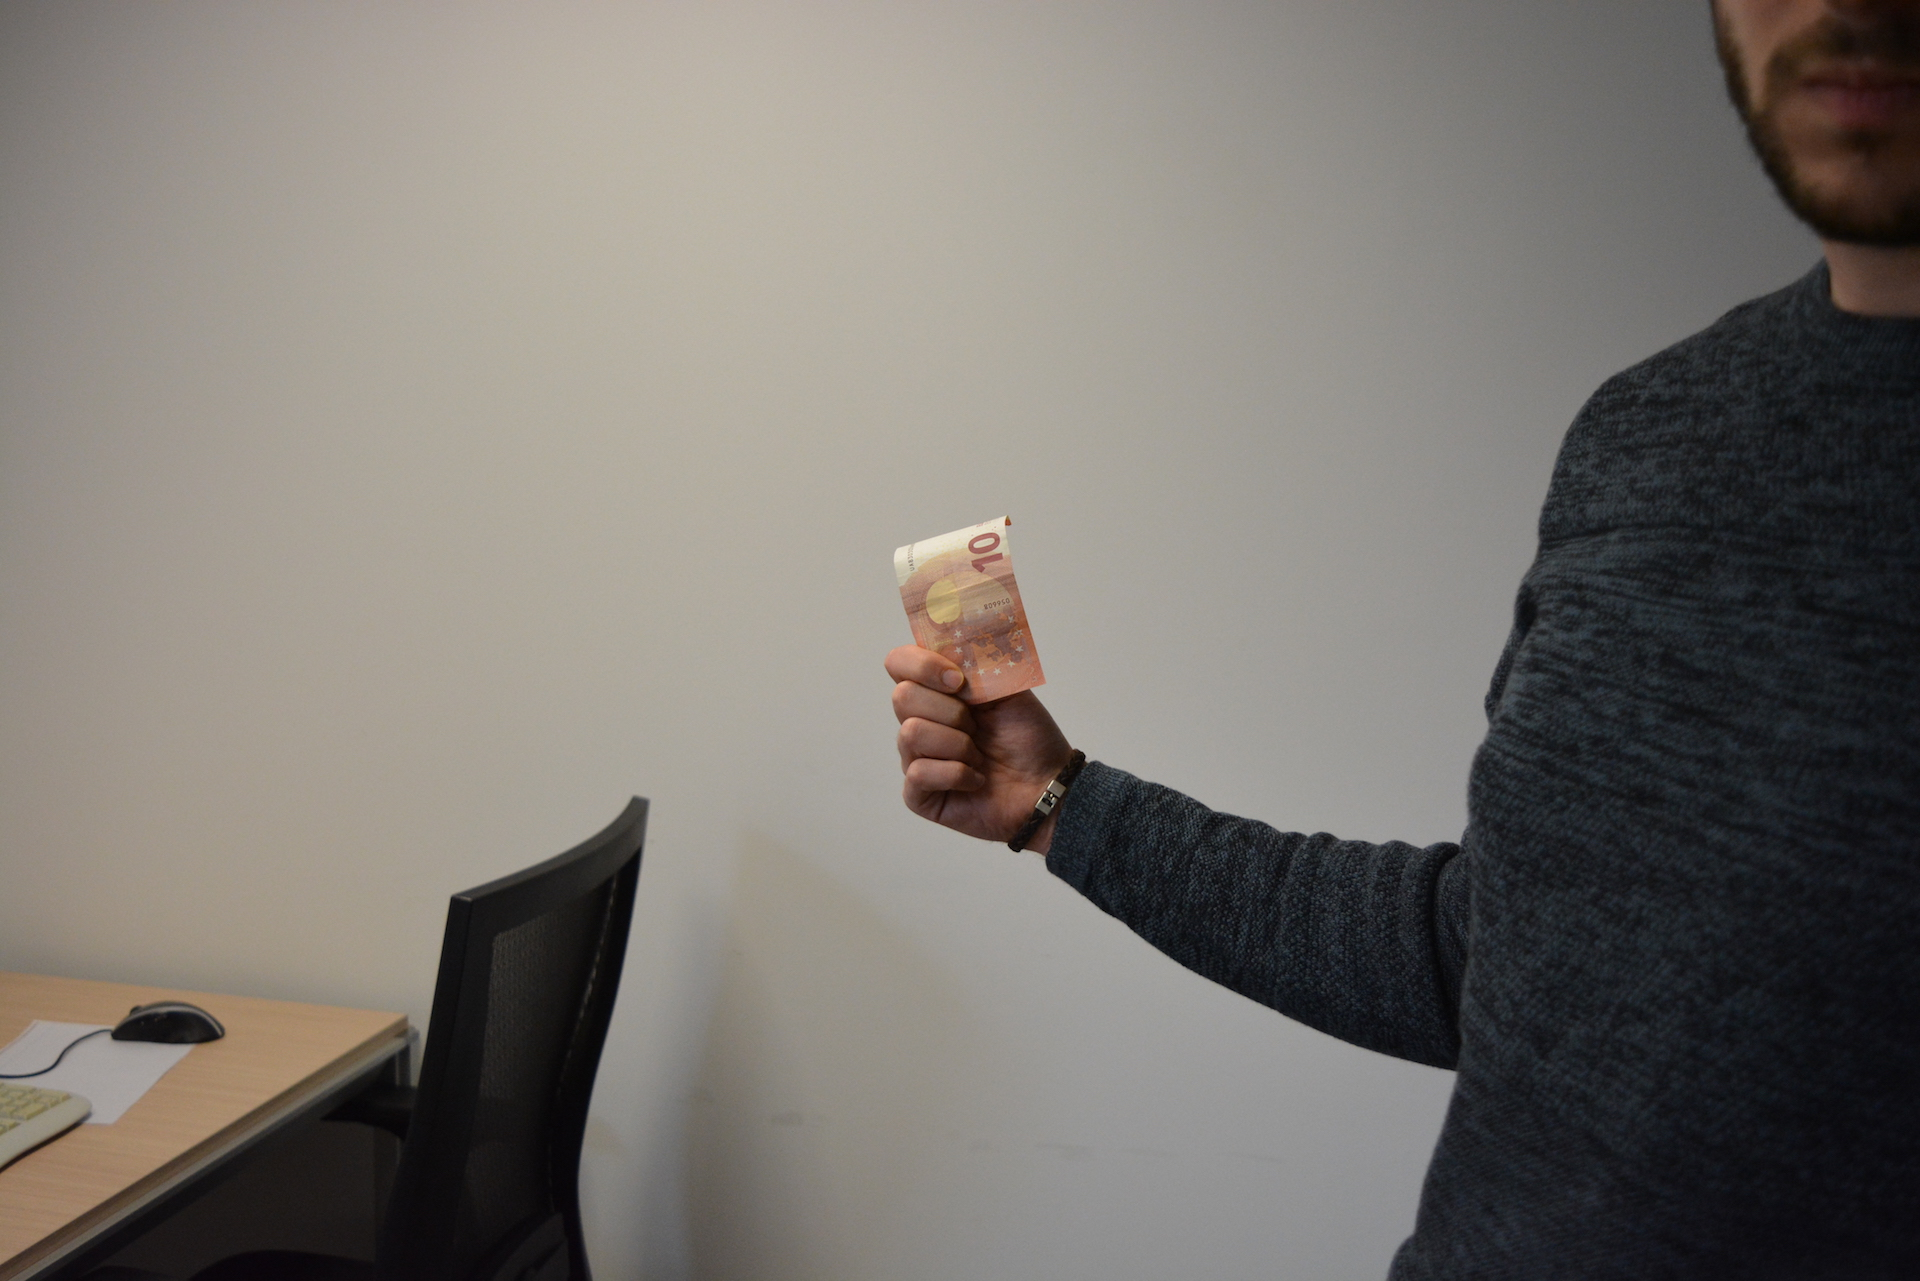billete: (894, 515, 1048, 708)
